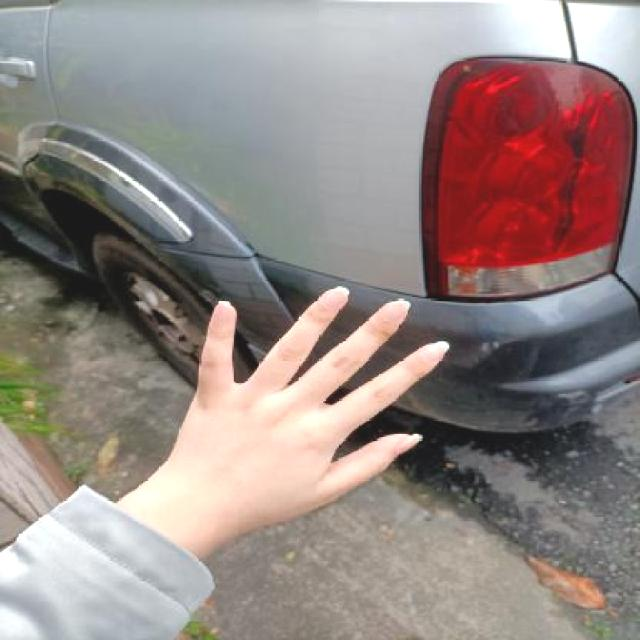no_glove: (138, 278, 467, 539)
